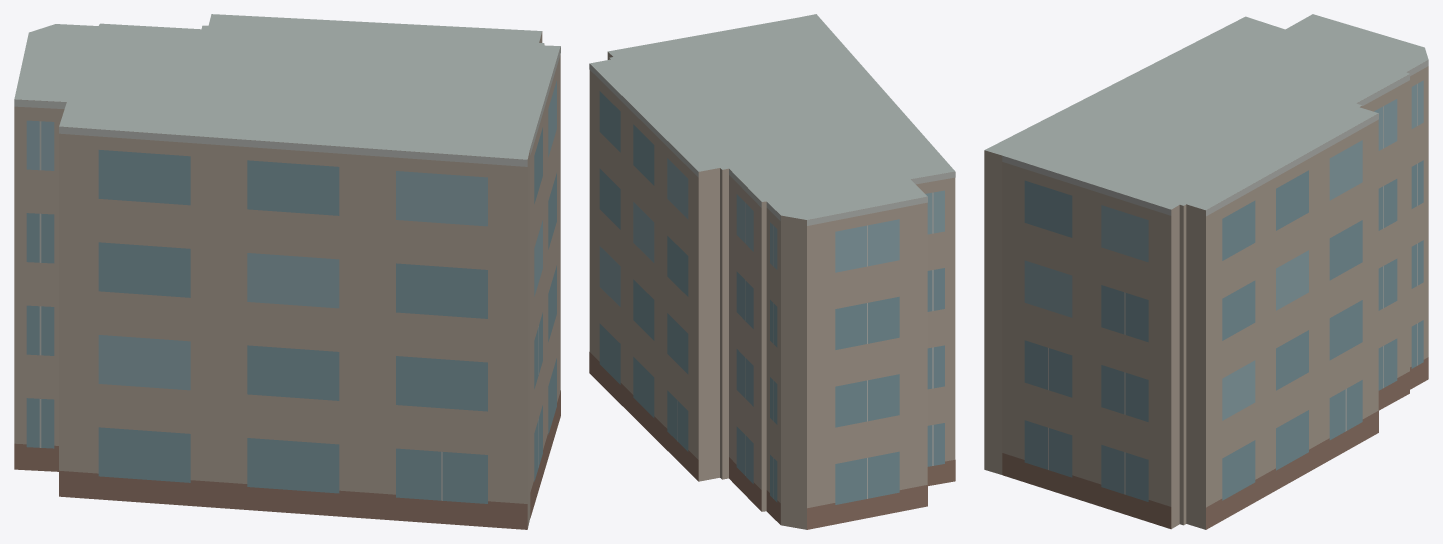
File: survey-upis-32738533.glb
3 renders of one model, left to right at view 1: azimuth 30°, elevation 25°; view 2: azimuth 150°, elevation 25°; view 3: azimuth 270°, elevation 25°, orthographic. The views are drawn at different scales.
Parts seen in each view (by area): view 1: survey-upis-32738533.tmp; view 2: survey-upis-32738533.tmp; view 3: survey-upis-32738533.tmp.
Boxes of the visible parts, <box> form: survey-upis-32738533.tmp: <box>14,14,560,529</box>; survey-upis-32738533.tmp: <box>589,14,955,529</box>; survey-upis-32738533.tmp: <box>984,14,1428,529</box>.
Size of the model in its own units: 16.48 by 12.5 by 15.76.
